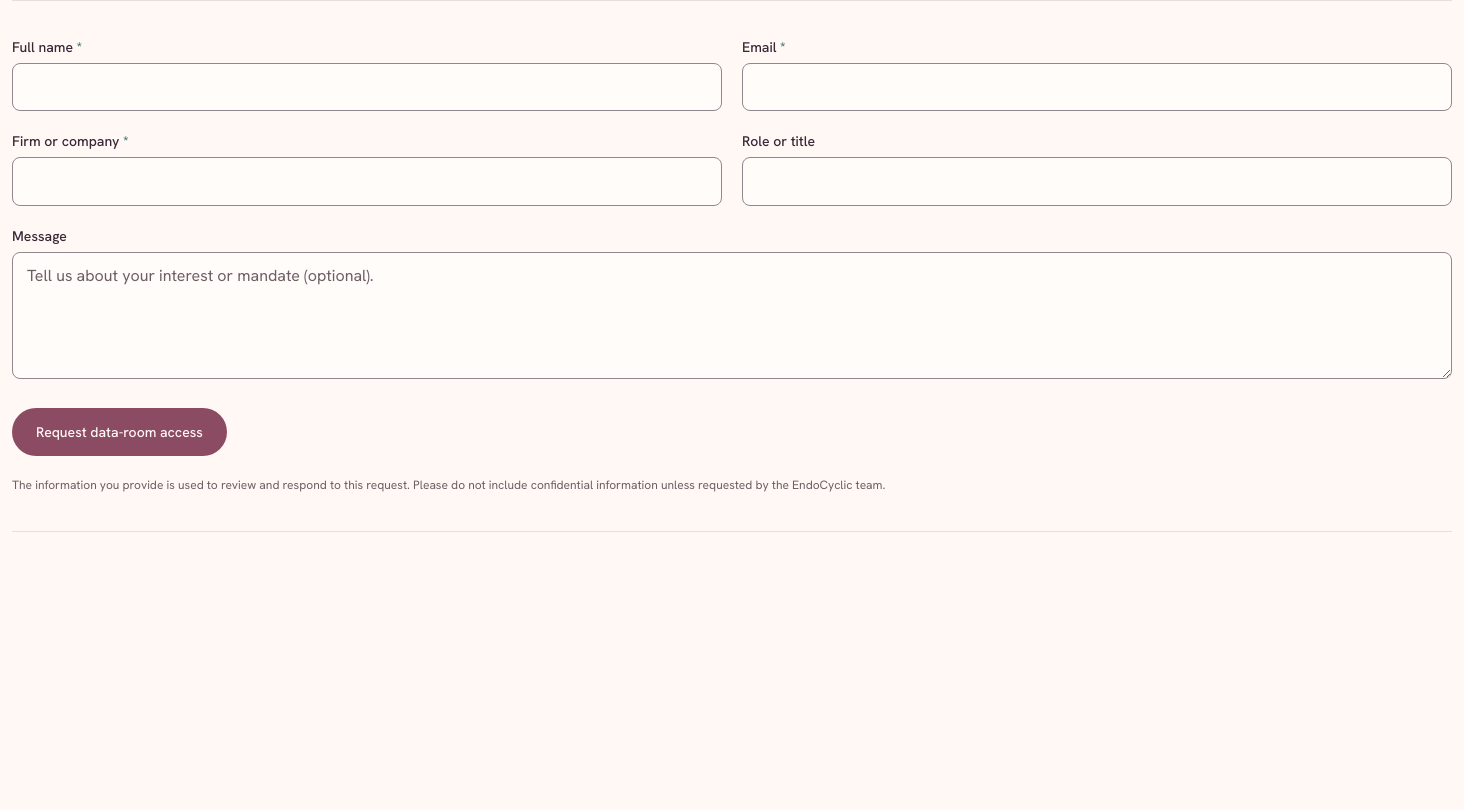
InvestorRequestForm › uses the same mailbox validation contract as the API
Step 1. Type "Ada Lovelace" into the field labelled "Full name" → point(367, 87), box [12, 63, 722, 111]
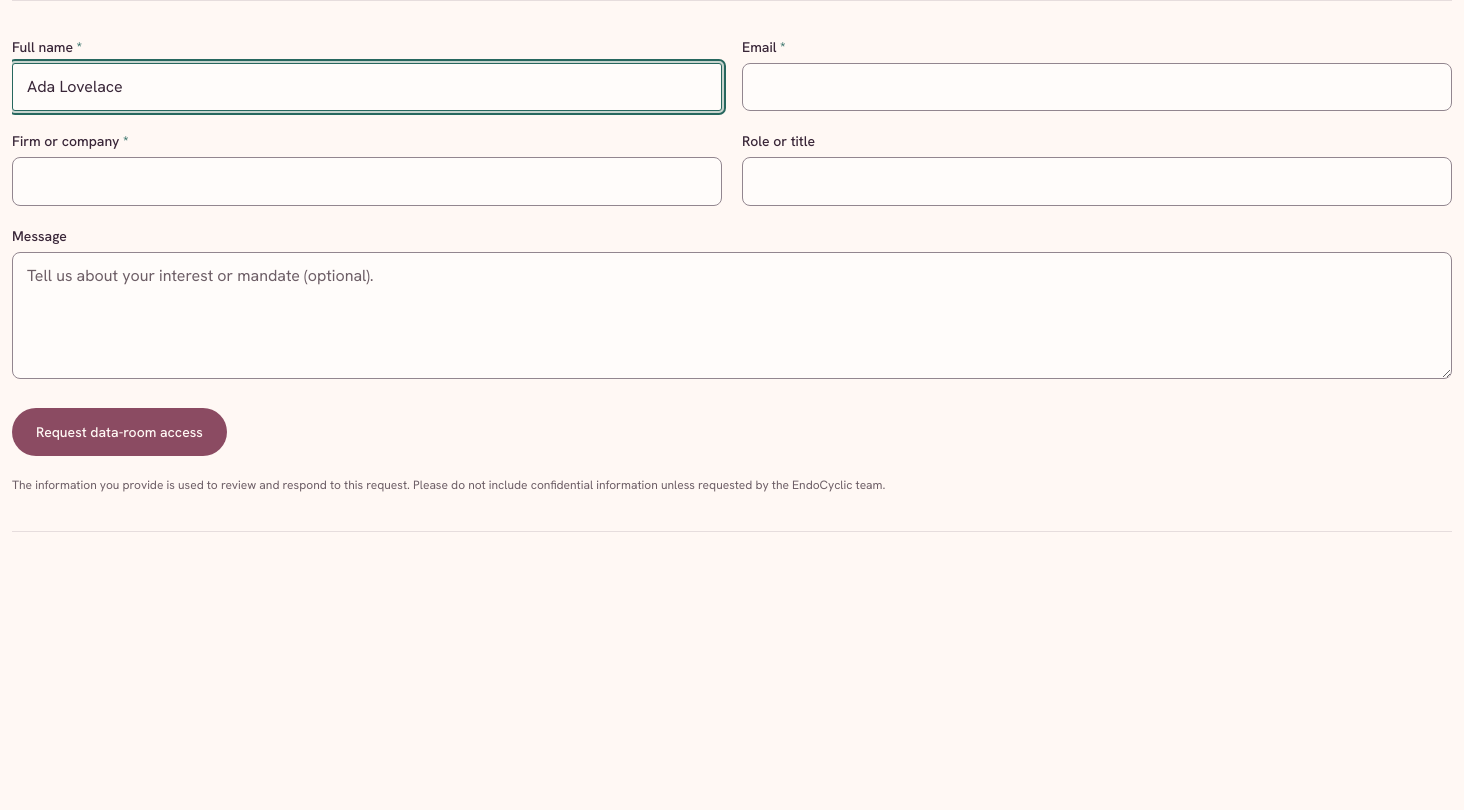
Step 2. Type "ada..lovelace@example.com" into the field labelled "Email" → point(1097, 87), box [742, 63, 1452, 111]
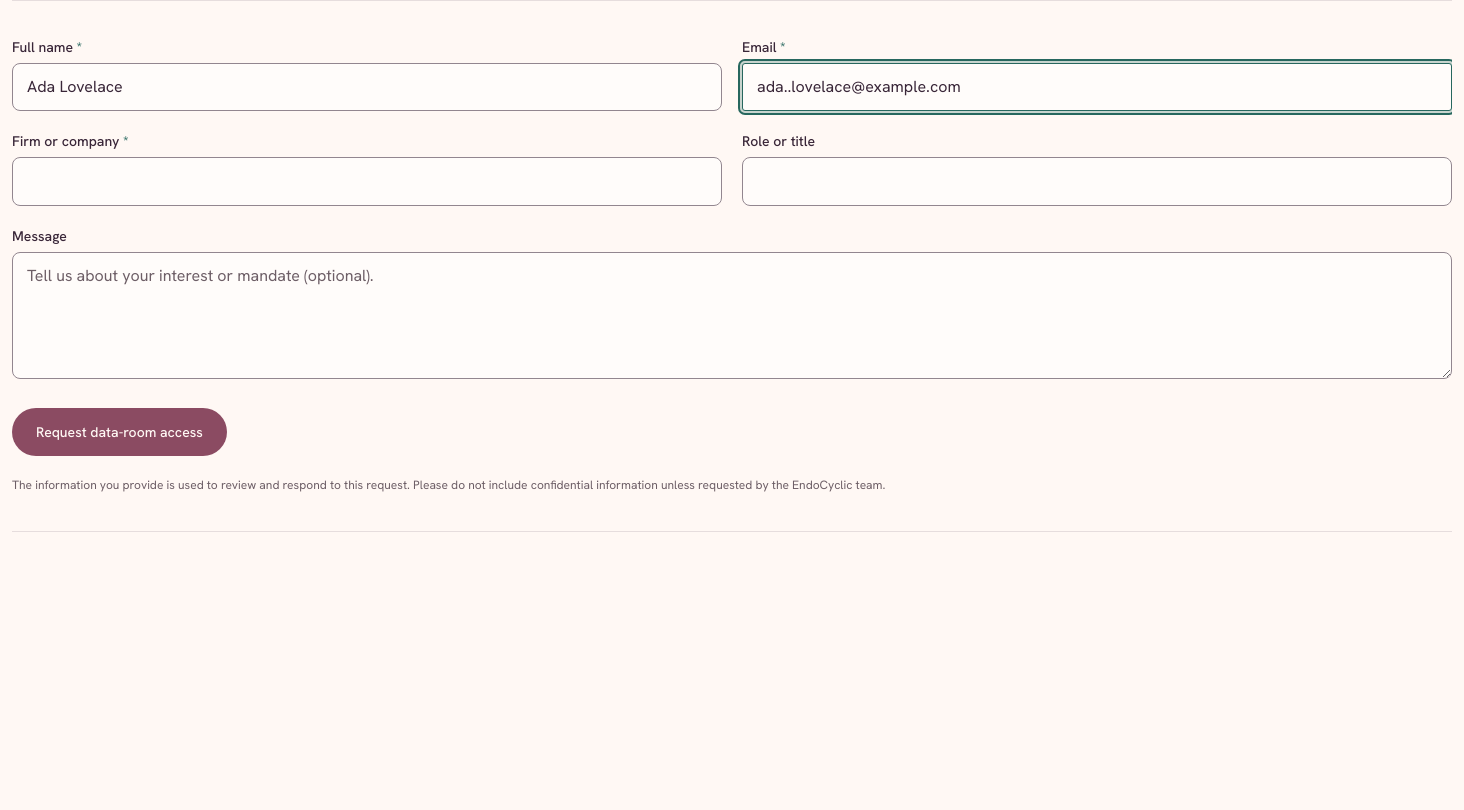
Step 3. Type "Analytical Engine Partners" into the field labelled "Firm or company" → point(367, 182), box [12, 157, 722, 206]
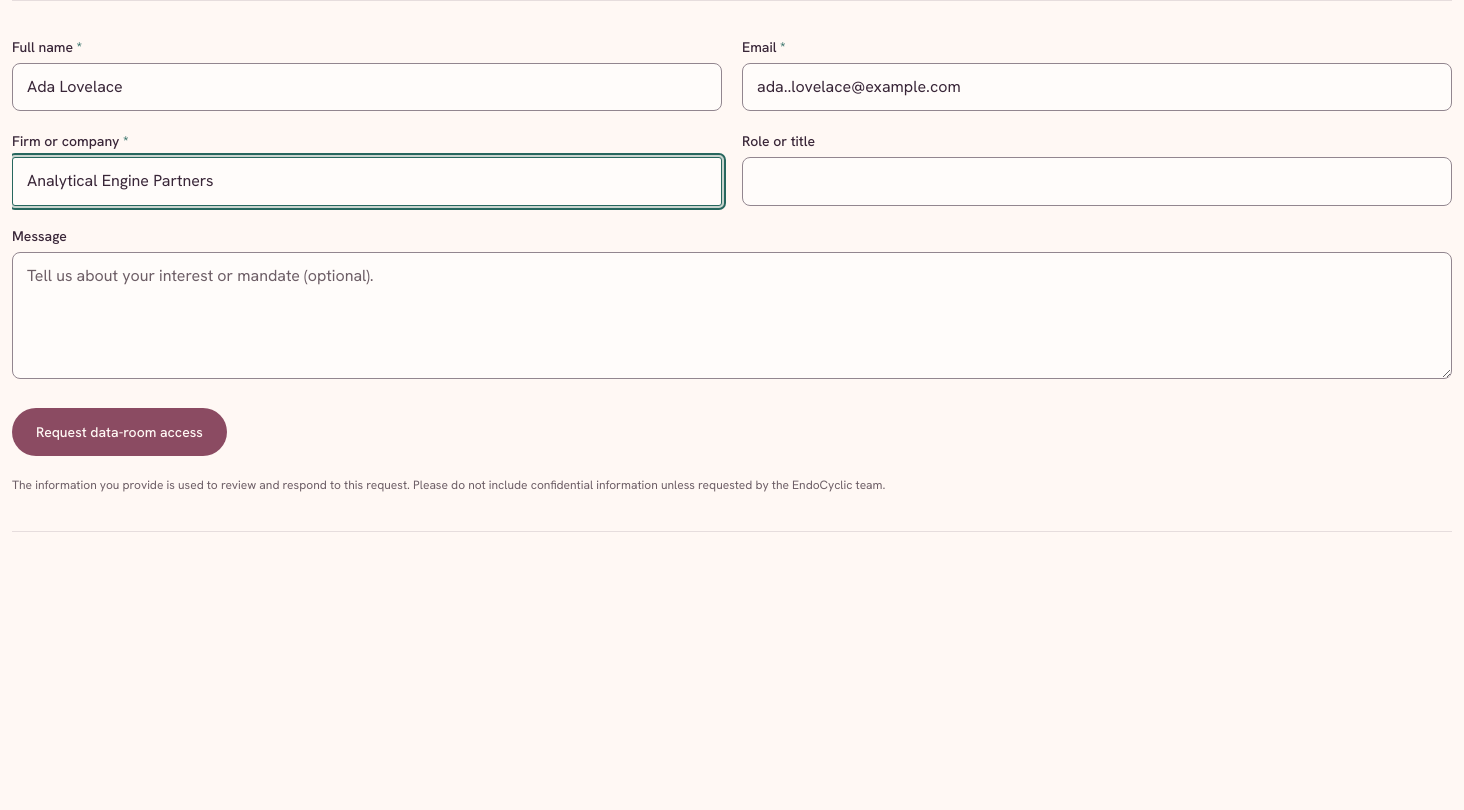
Step 4. Click the button "Request data-room access" → point(119, 432), box [12, 408, 227, 456]
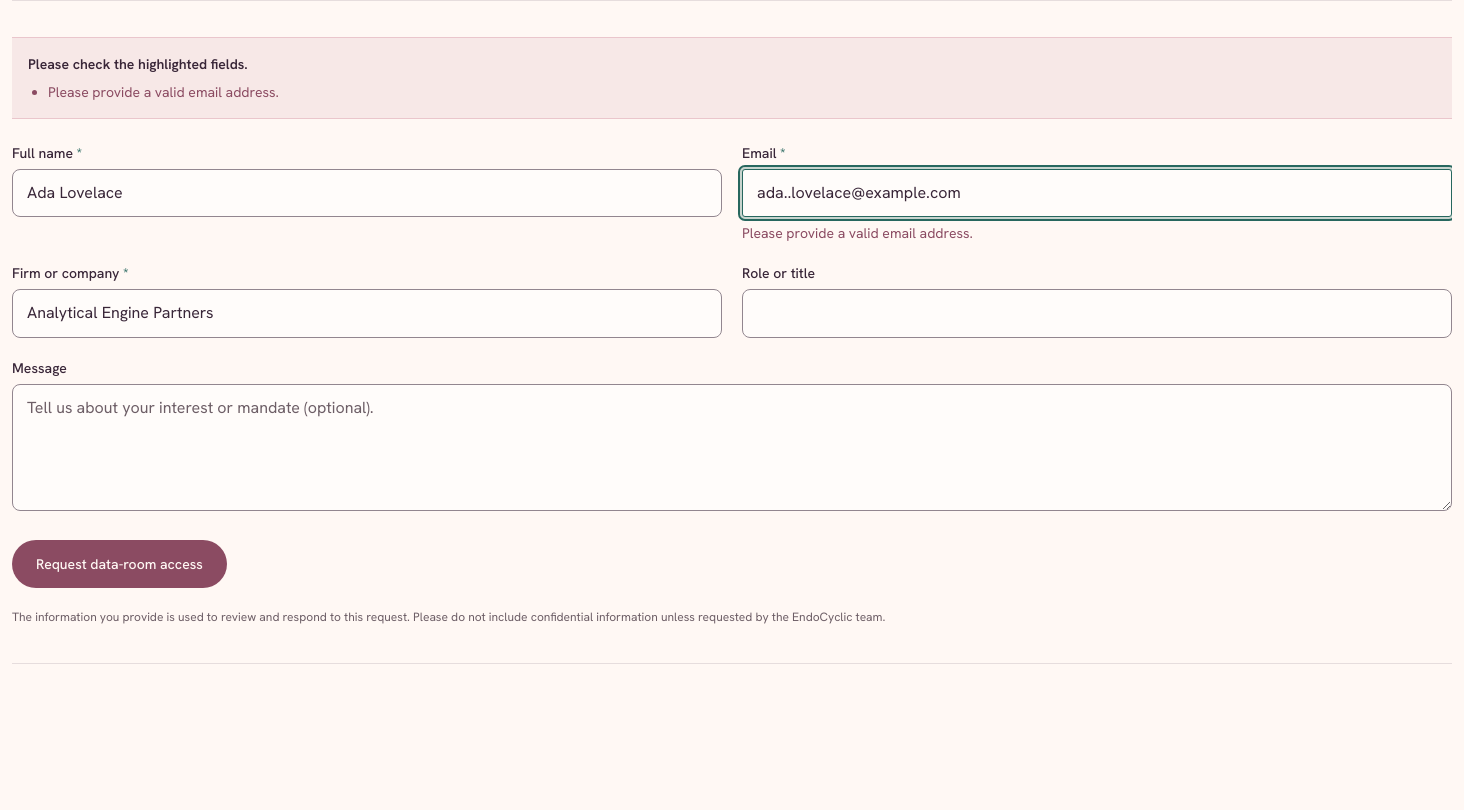
Expected: the number of links "Please provide a valid email address." is 2, [48, 82, 279, 102]; [742, 224, 973, 242]
